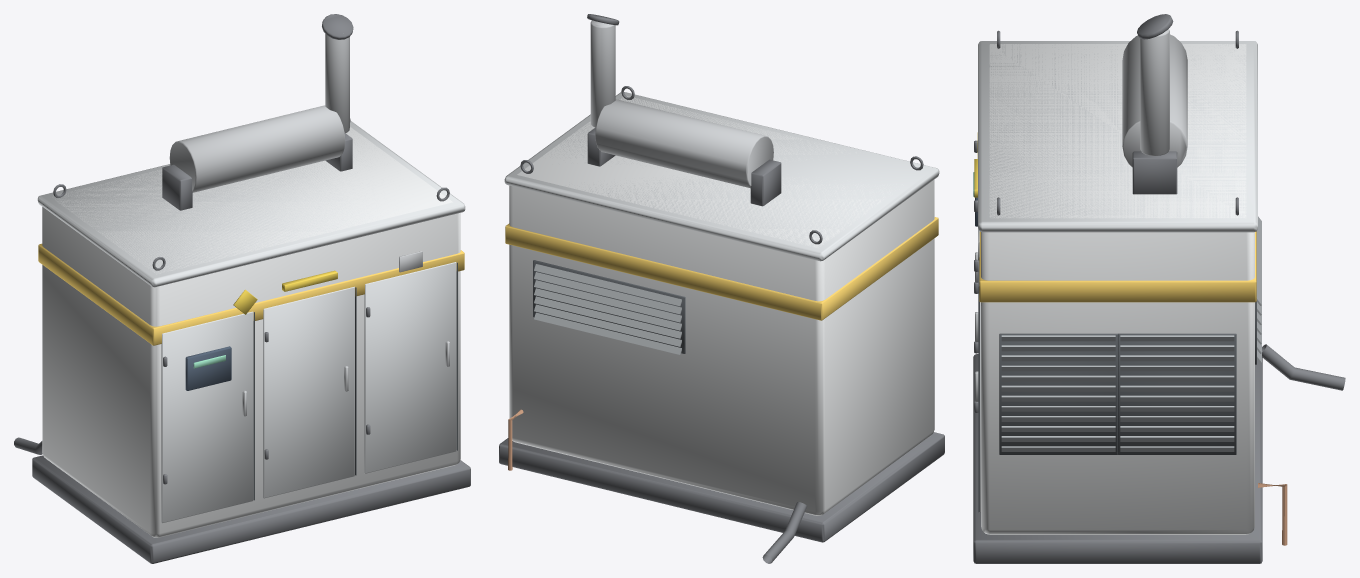
Rendered from generator.glb.
3 renders of one model, left to right at view 1: azimuth 30°, elevation 25°; view 2: azimuth 150°, elevation 25°; view 3: azimuth 270°, elevation 25°, orthographic. The views are drawn at different scales.
Parts seen in each view (by area): view 1: Body; view 2: Body; view 3: Body.
Boxes of the visible parts, <box> form: Body: <box>14,14,470,563</box>; Body: <box>499,14,944,563</box>; Body: <box>973,14,1345,563</box>.
Size of the model in its own units: 3 by 3.82 by 2.51.
